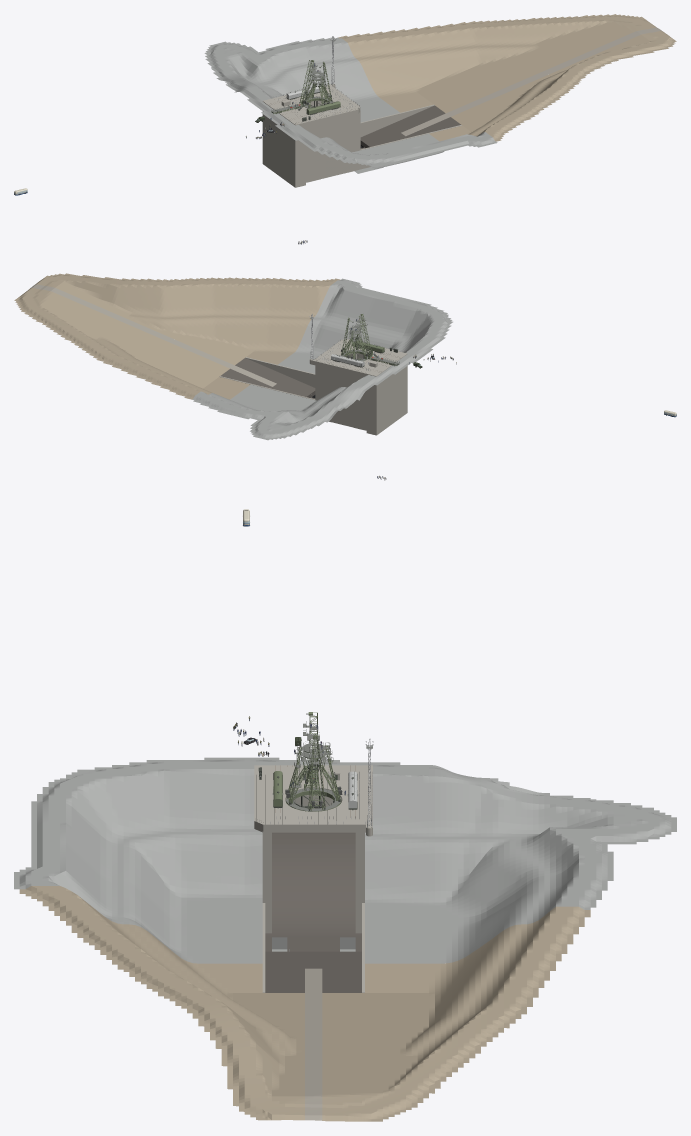
File: pad.glb
3 renders of one model, top to bottom at view 1: azimuth 30°, elevation 25°; view 2: azimuth 150°, elevation 25°; view 3: azimuth 270°, elevation 25°, orthographic. The views are drawn at different scales.
Parts seen in each view (by area): view 1: FlamePit_Earth, FlamePit_Lining, Platform_ConcretePylons, FlamePit_Road, Platform_Concrete, FlamePit_Scorch, FlamePit_ScorchSump; view 2: FlamePit_Earth, FlamePit_Lining, Platform_ConcretePylons, FlamePit_Road, Platform_Concrete, FlamePit_Scorch, FlamePit_ScorchSump; view 3: FlamePit_Lining, FlamePit_Earth, FlameDeflector_Scorch, Platform_Concrete, Platform_ConcretePylons, FlamePit_Scorch, FlamePit_Road, FlamePit_ScorchSump.
Part boxes in pixels (bbox=[...]): FlamePit_Earth: bbox=[338, 14, 676, 141]; FlamePit_Lining: bbox=[204, 37, 497, 168]; Platform_ConcretePylons: bbox=[262, 98, 462, 187]; FlamePit_Road: bbox=[401, 27, 662, 136]; Platform_Concrete: bbox=[273, 84, 360, 126]; FlamePit_Scorch: bbox=[360, 105, 460, 149]; FlamePit_ScorchSump: bbox=[360, 125, 407, 148]; FlamePit_Earth: bbox=[14, 273, 340, 399]; FlamePit_Lining: bbox=[192, 278, 452, 440]; Platform_ConcretePylons: bbox=[219, 351, 407, 435]; FlamePit_Road: bbox=[30, 284, 276, 386]; Platform_Concrete: bbox=[309, 339, 395, 376]; FlamePit_Scorch: bbox=[220, 358, 315, 399]; FlamePit_ScorchSump: bbox=[271, 376, 315, 397]; FlamePit_Lining: bbox=[14, 757, 676, 963]; FlamePit_Earth: bbox=[19, 886, 590, 1121]; FlameDeflector_Scorch: bbox=[265, 832, 361, 937]; Platform_Concrete: bbox=[254, 774, 372, 836]; Platform_ConcretePylons: bbox=[254, 765, 372, 992]; FlamePit_Scorch: bbox=[265, 937, 361, 992]; FlamePit_Road: bbox=[305, 968, 322, 1120]; FlamePit_ScorchSump: bbox=[265, 951, 361, 968].
Bounding box in the file's own units: 481 × 128 × 230.
